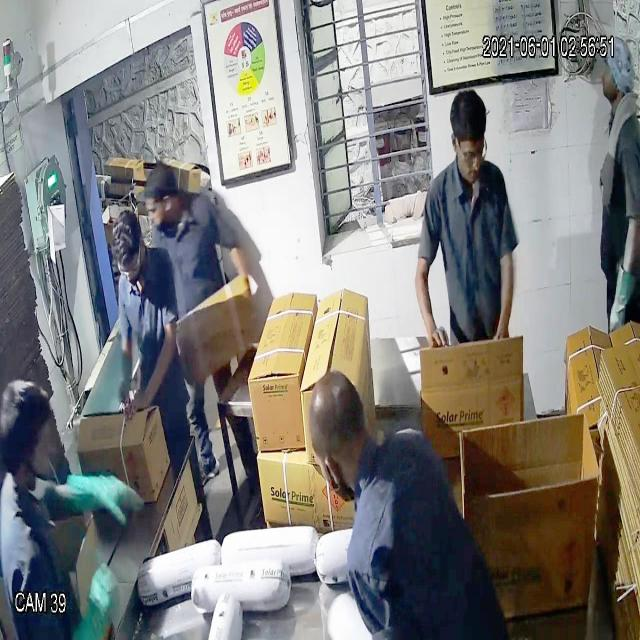glasses: (110, 247, 150, 285)
